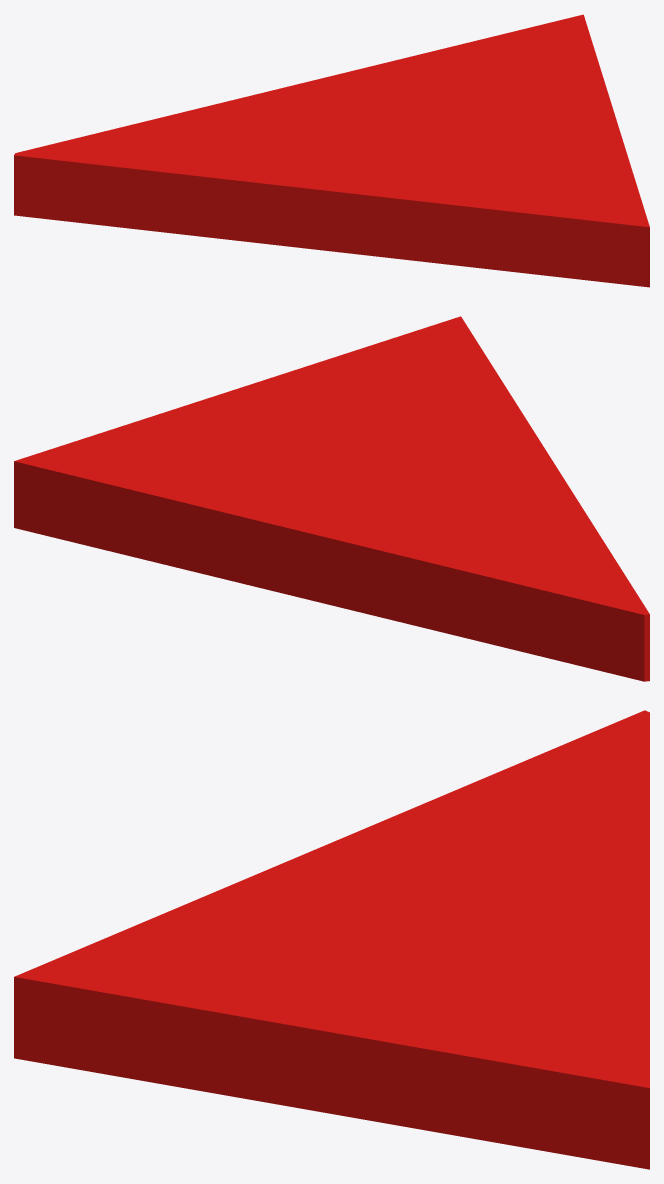
Rendered from Item2.fbx.
The picture shows the model from 3 angles, top to bottom: view 1: azimuth 30°, elevation 25°; view 2: azimuth 150°, elevation 25°; view 3: azimuth 270°, elevation 25°; orthographic projection. The views are drawn at different scales.
Visible parts, largest first — view 1: Cylinder.002; view 2: Cylinder.002; view 3: Cylinder.002.
Part boxes in pixels (left/top/right/bottom): Cylinder.002: left=14, top=14, right=649, bottom=287; Cylinder.002: left=14, top=316, right=649, bottom=681; Cylinder.002: left=14, top=710, right=649, bottom=1169.
Size of the model in its own units: 199 by 20 by 141.
